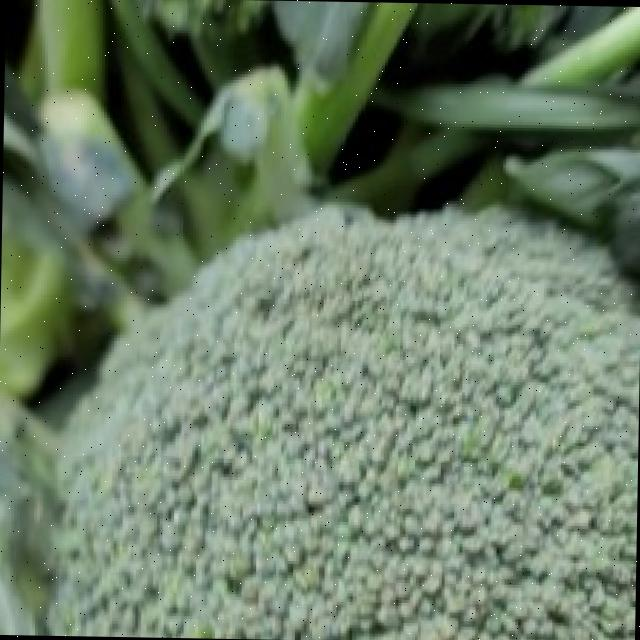Broccoli: (49, 206, 640, 640), (51, 206, 640, 640)
